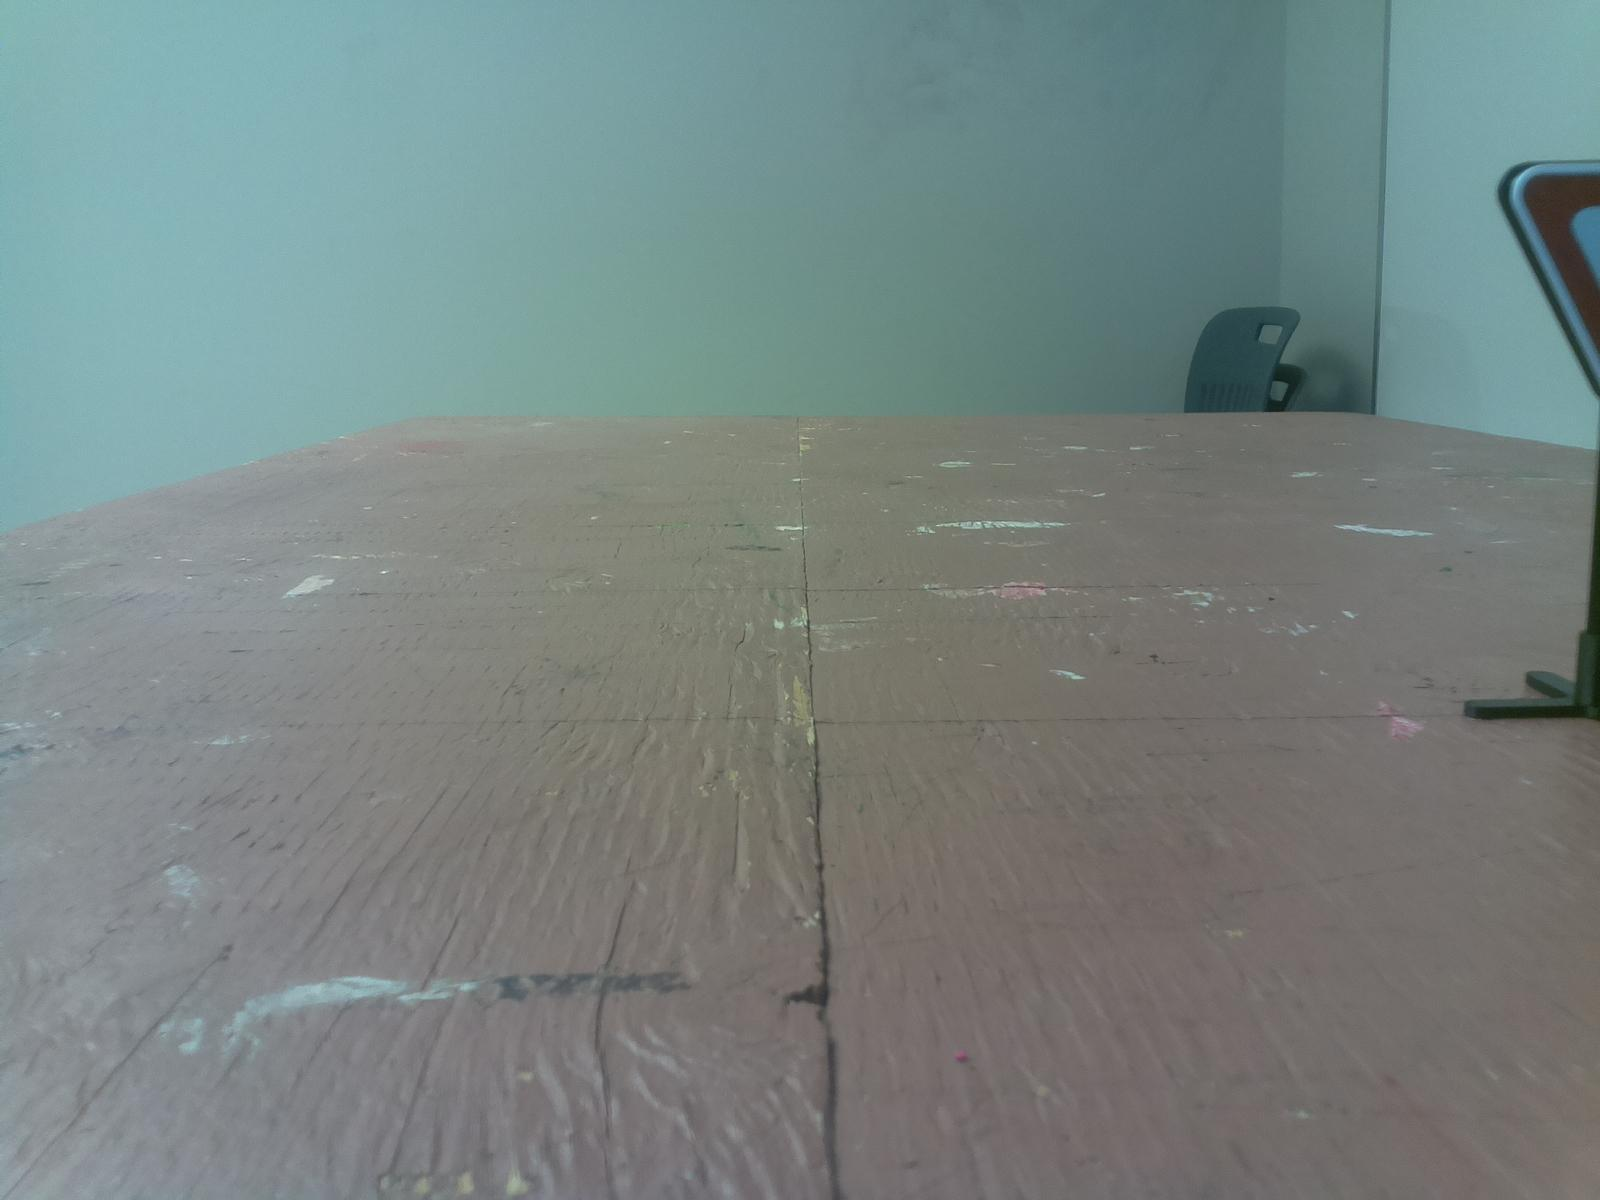sign_yield: (1485, 142, 1600, 407)
